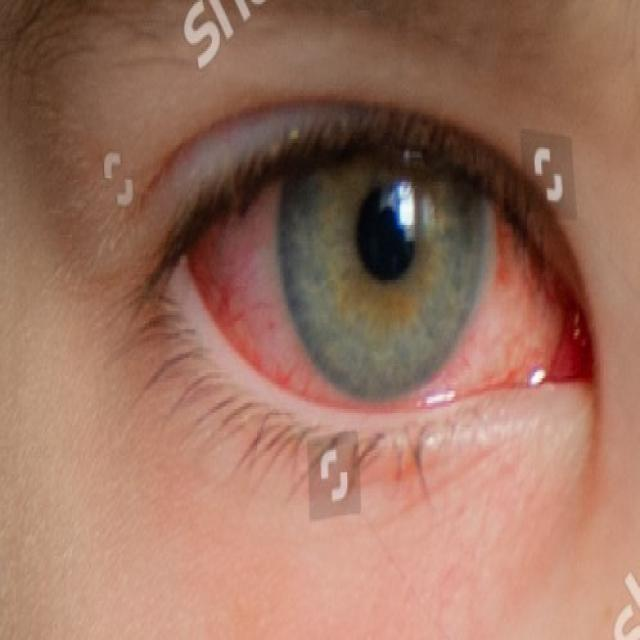Conjunctivitis: (168, 177, 600, 417)
